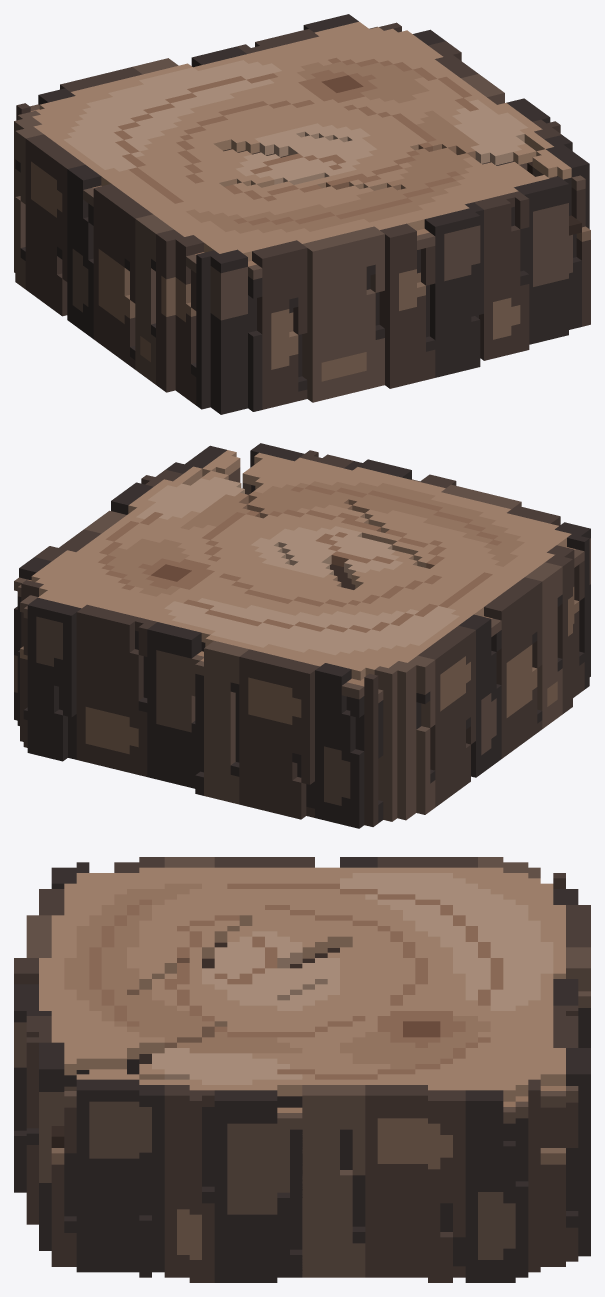
File: workbench_juniper.glb
The picture shows the model from 3 angles, top to bottom: view 1: azimuth 30°, elevation 25°; view 2: azimuth 150°, elevation 25°; view 3: azimuth 270°, elevation 25°; orthographic projection. The views are drawn at different scales.
Parts seen in each view (by area): view 1: VoxelVisual; view 2: VoxelVisual; view 3: VoxelVisual.
Boxes of the visible parts, bbox=[...] form: VoxelVisual: bbox=[14, 14, 590, 414]; VoxelVisual: bbox=[14, 443, 590, 828]; VoxelVisual: bbox=[14, 857, 590, 1282].
Size of what is drawn, in the model's own units: 2.88 by 1 by 2.88.
